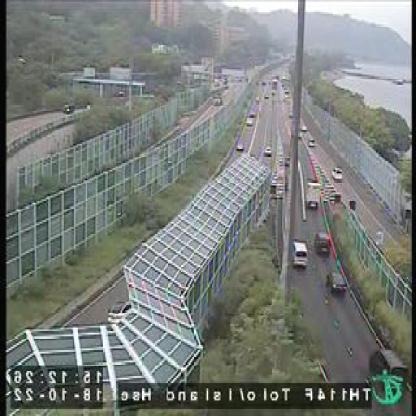Car: (368, 346, 406, 393), (324, 263, 347, 296), (292, 240, 308, 272), (314, 230, 331, 257), (332, 166, 343, 180), (234, 141, 244, 154), (307, 135, 316, 147), (264, 144, 272, 156), (245, 116, 253, 127)
Truck: (304, 178, 323, 212)
